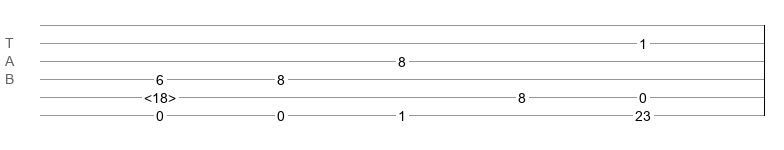0: (156, 108, 164, 118), (277, 108, 285, 118), (639, 90, 647, 100)
1: (398, 108, 406, 118), (639, 36, 647, 46)
23: (635, 108, 651, 118)
6: (156, 72, 164, 82)
8: (277, 72, 285, 82), (398, 54, 406, 64), (518, 90, 526, 100)
harmonic: (144, 90, 176, 100)
